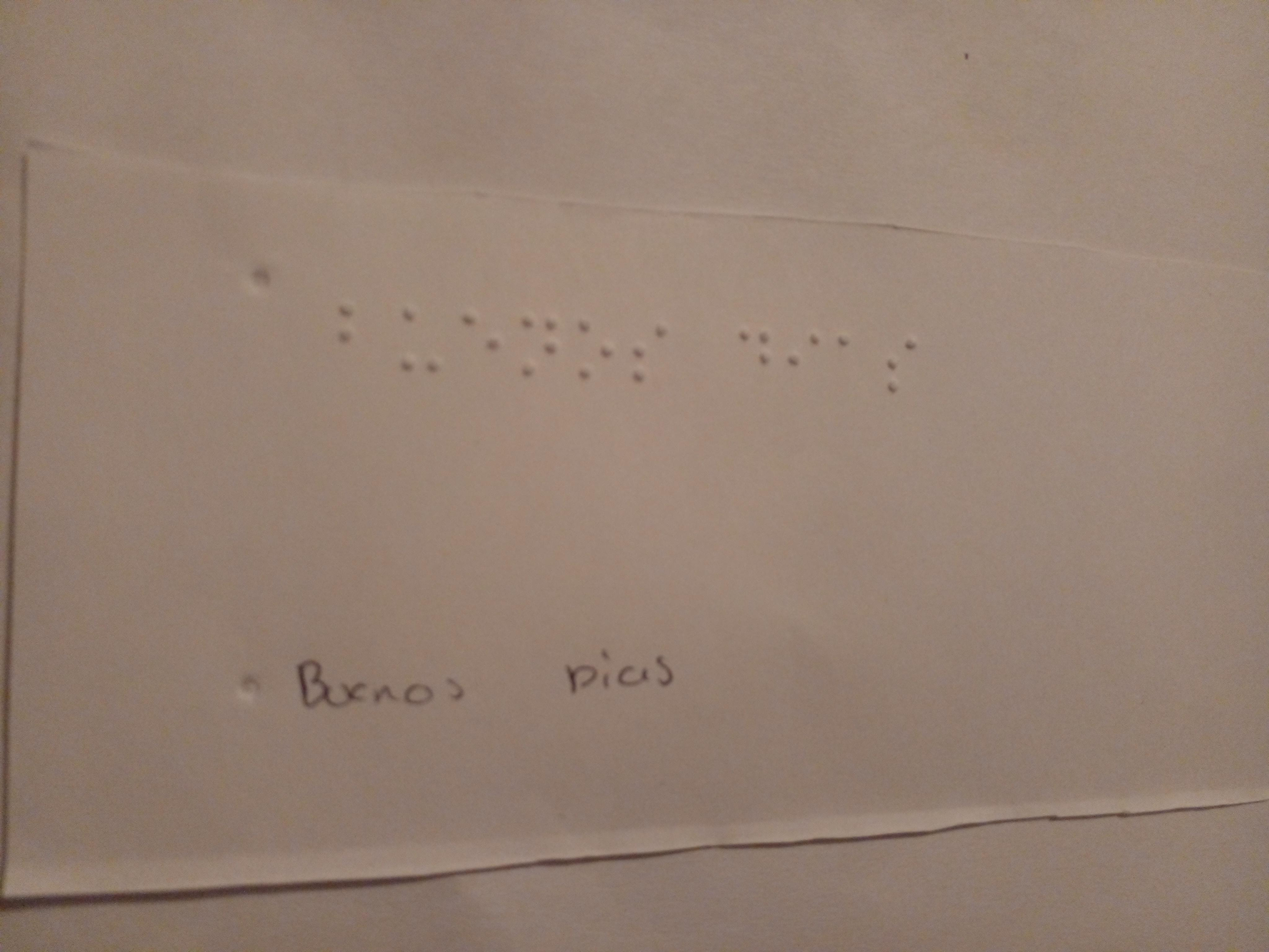a: (824, 328, 863, 367)
b: (327, 290, 372, 370)
d: (723, 318, 781, 381)
e: (454, 304, 516, 380)
i: (784, 322, 826, 373)
n: (517, 310, 562, 389)
o: (572, 308, 617, 392)
s: (874, 307, 926, 397), (621, 315, 672, 392)
u: (387, 302, 452, 392)
